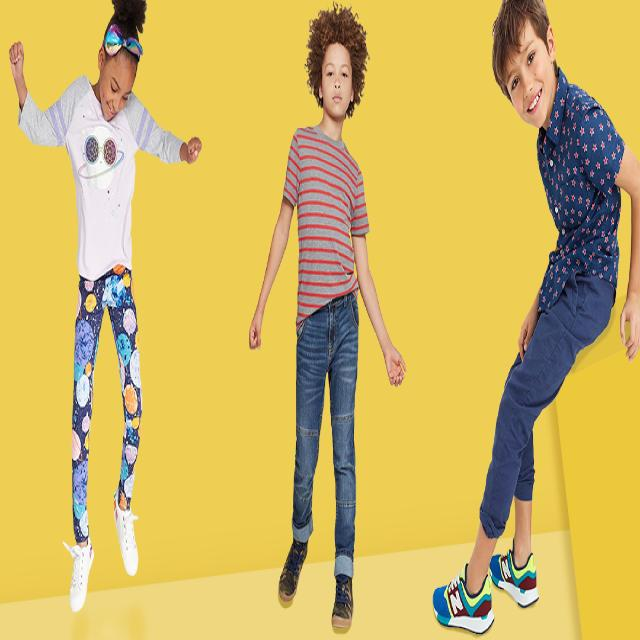child: (432, 0, 640, 631), (7, 0, 202, 618), (245, 3, 404, 640)
